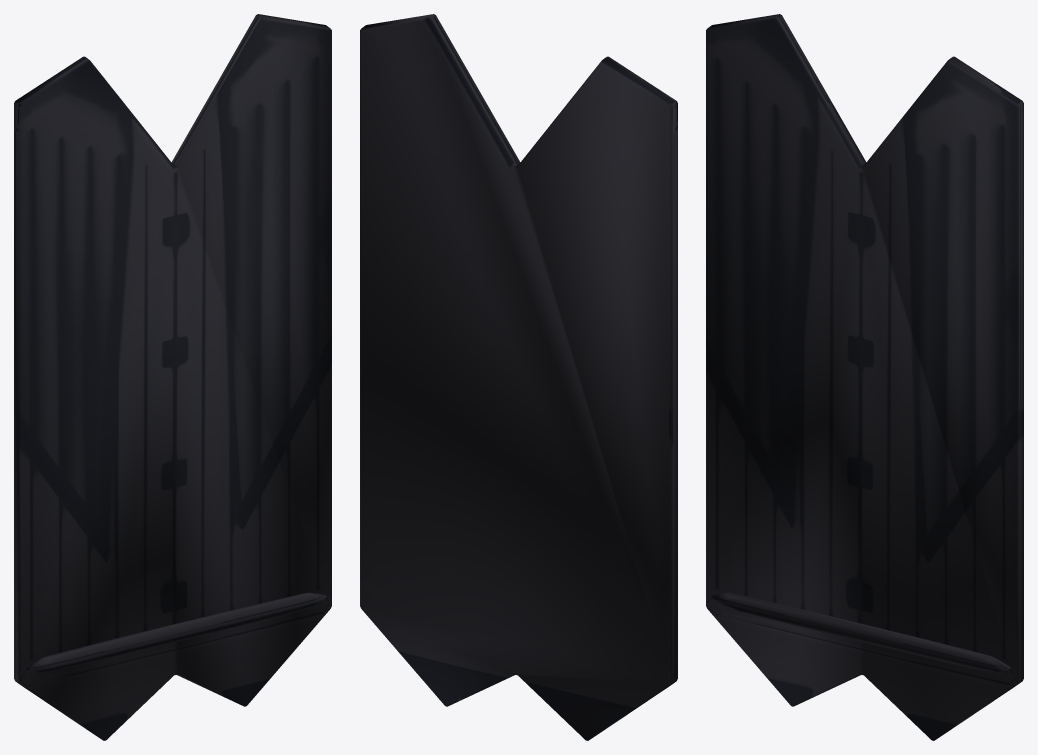
File: Mascarada_Chaleco.fbx
3 renders of one model, left to right at view 1: azimuth 30°, elevation 25°; view 2: azimuth 150°, elevation 25°; view 3: azimuth 330°, elevation 25°, orthographic.
Parts seen in each view (by area): view 1: Mascarada_Chaleco; view 2: Mascarada_Chaleco; view 3: Mascarada_Chaleco.
Boxes of the visible parts, bbox=[...] form: Mascarada_Chaleco: bbox=[14, 14, 331, 740]; Mascarada_Chaleco: bbox=[360, 14, 677, 740]; Mascarada_Chaleco: bbox=[706, 14, 1023, 740].
Bounding box in the file's own units: 0.8161 × 1.71 × 0.0429.
